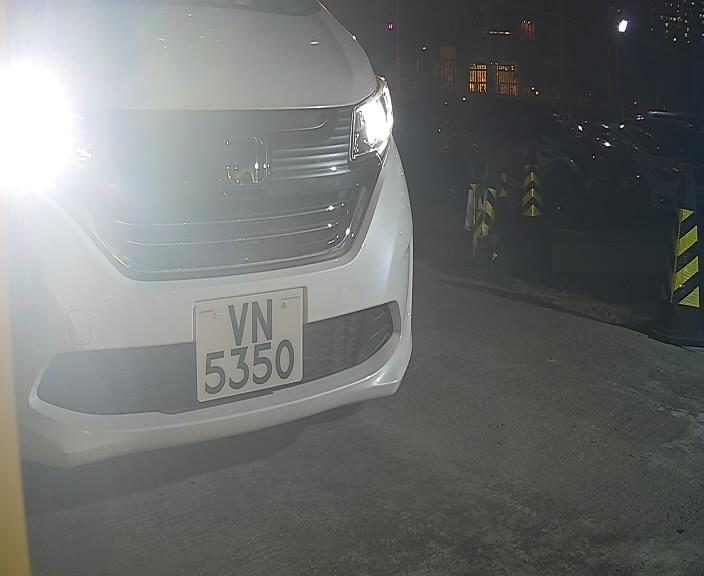License Plate: (192, 283, 318, 412)
